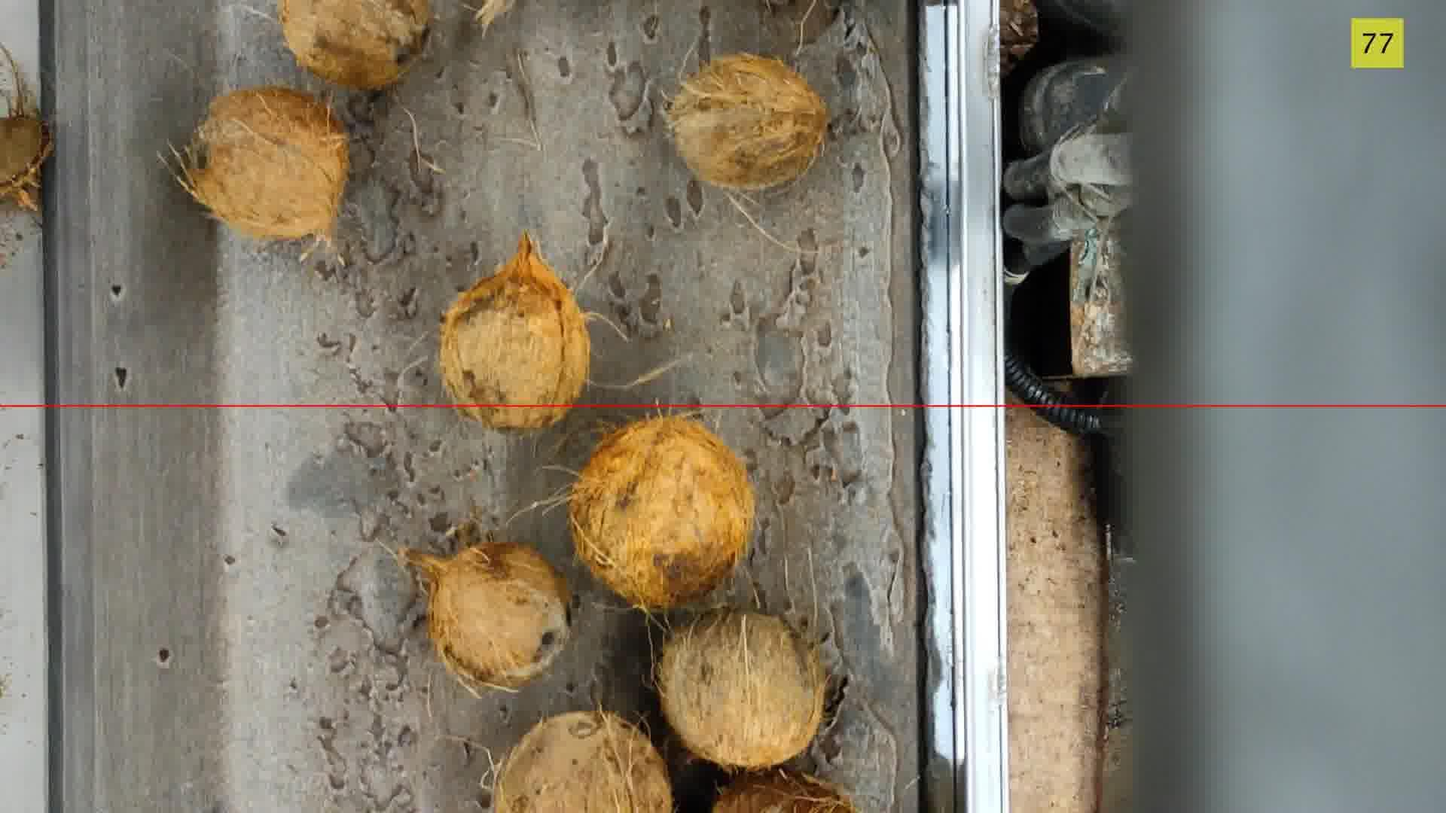Coconut: (569, 416, 754, 610), (439, 232, 590, 428), (397, 534, 571, 693), (655, 610, 826, 769), (179, 86, 349, 241), (667, 53, 827, 189), (493, 711, 672, 812), (278, 0, 430, 89), (0, 46, 53, 210), (712, 769, 856, 812), (474, 0, 514, 27)
